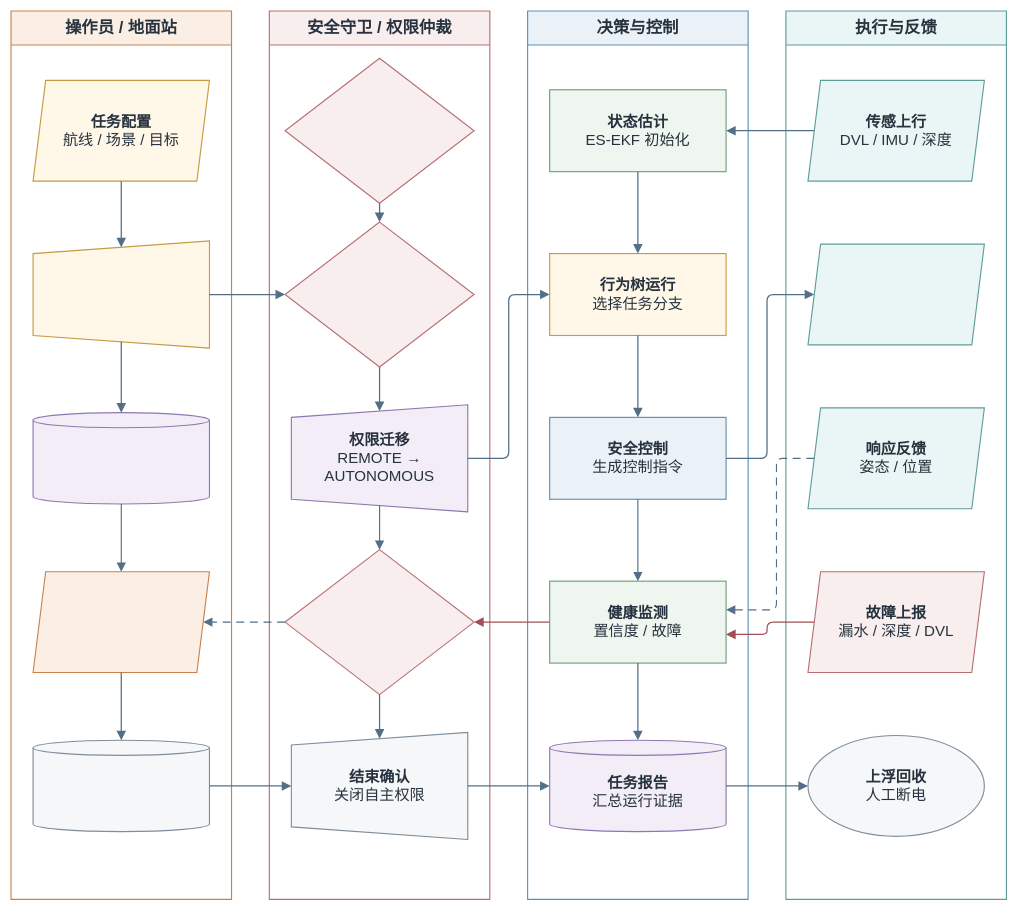
The diagram is 1018 pixels wide and 911 high, and some of its shapes have lost their labels. Here are the shapes that lost their labels. From the top down, the centre of each, then its label:
At [379,130]: "权限锁定 拒绝越权".
At [121,294]: "预检授权 签发权限".
At [379,294]: "守卫检查 通信 / 电压 / 置信度".
At [896,294]: "执行下行 舵角 / 推力".
At [121,458]: "任务监视 看板 / 视频".
At [121,622]: "干预窗口 必要时接管".
At [379,622]: "分层回退 回零 / 本地覆盖".
At [121,785]: "任务收尾 复盘 / 归档".
